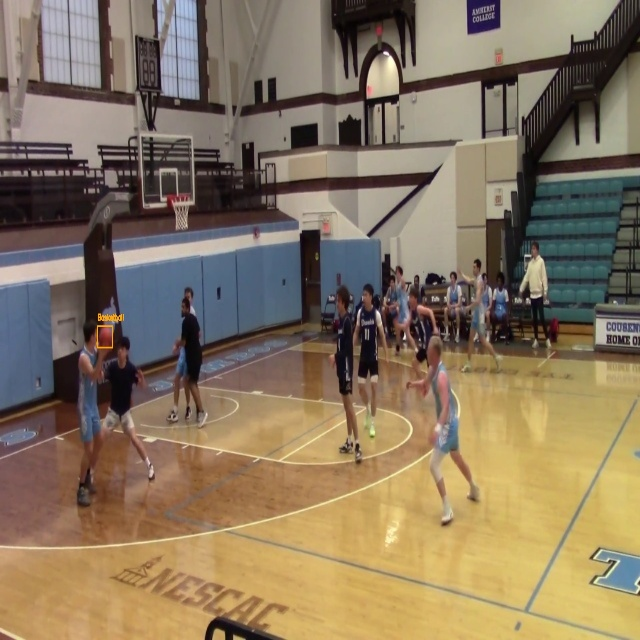Basketball: (97, 326, 113, 348)
